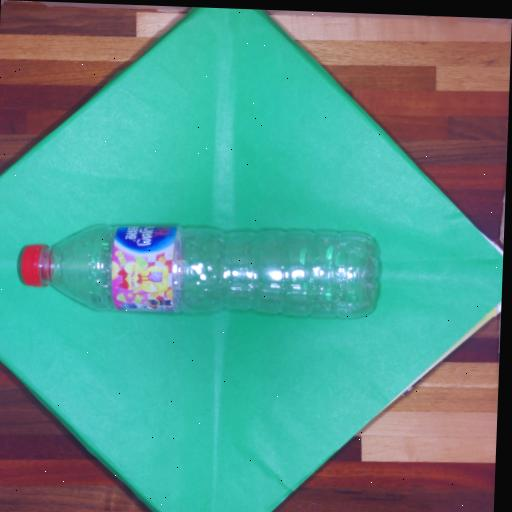bottle: (0, 212, 401, 337)
